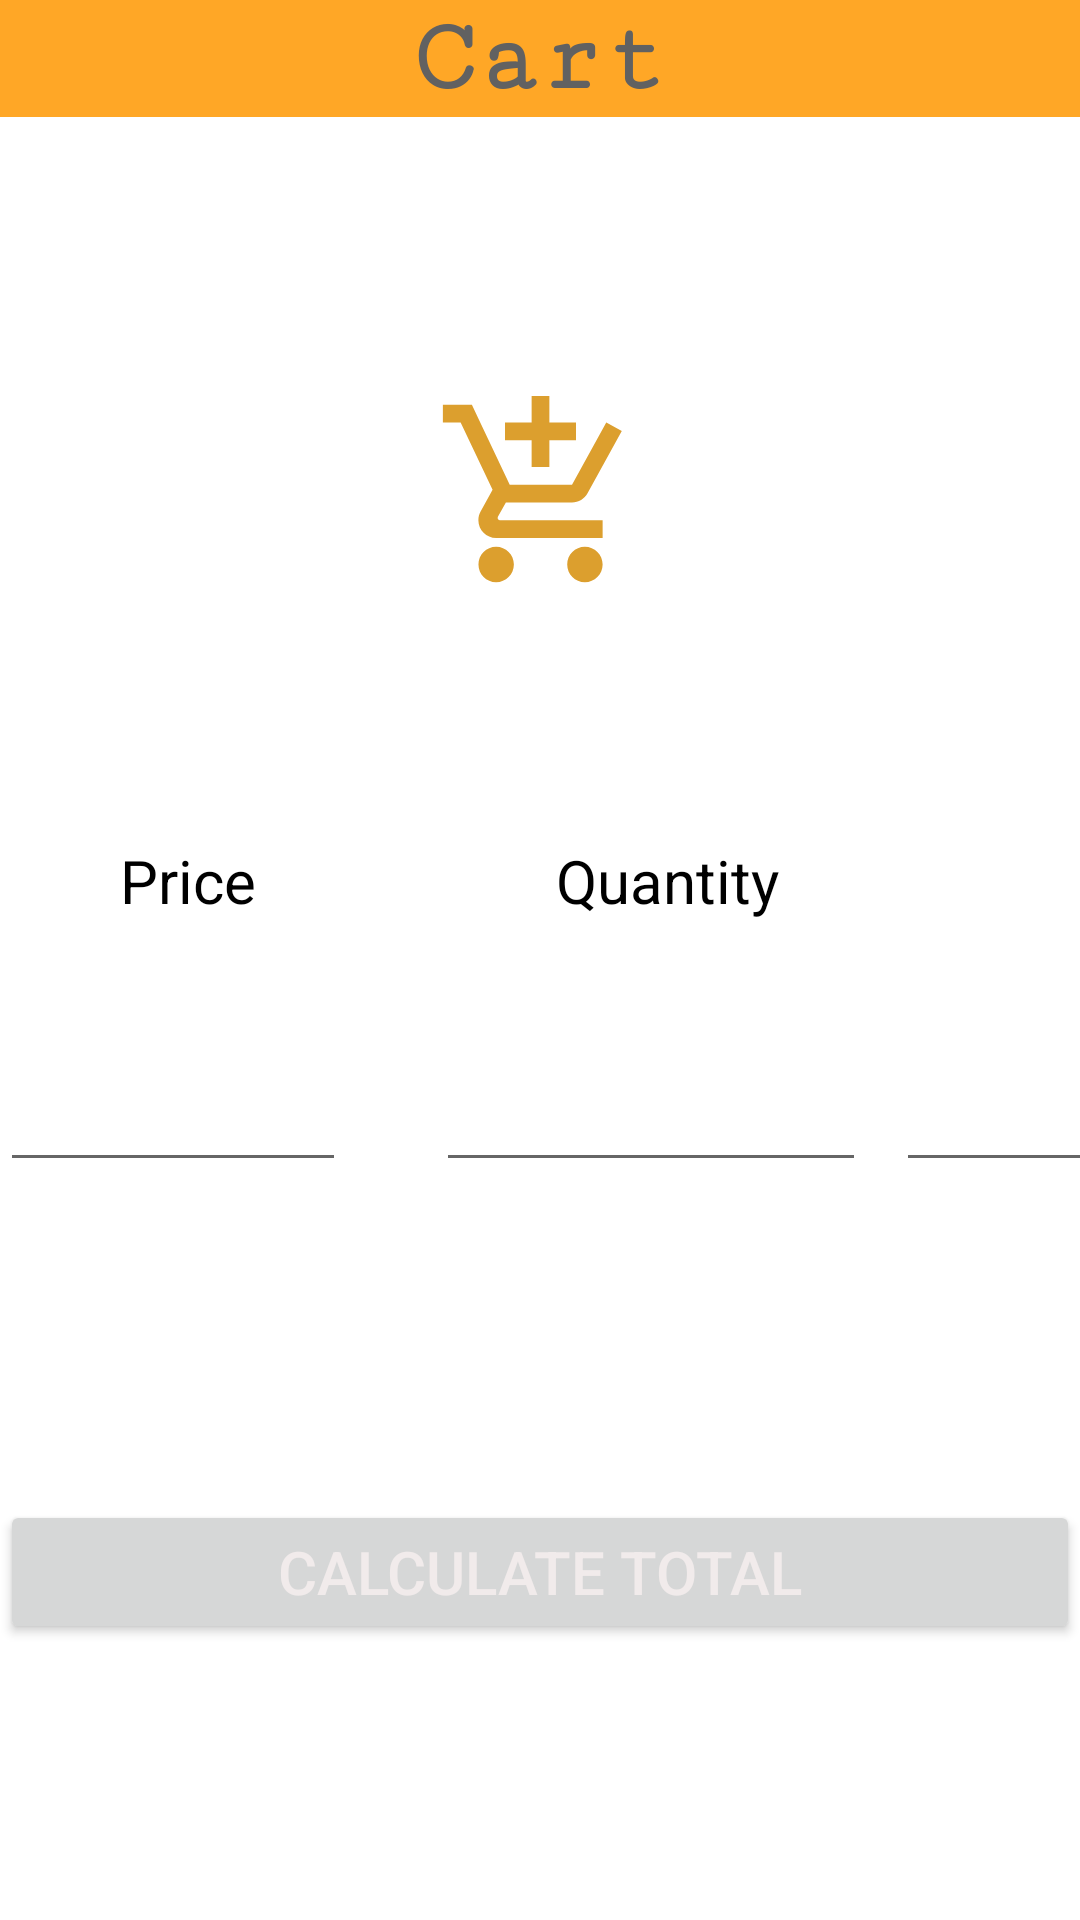

Icon click points for this 1080×1920 phone screenshot, format (x,y):
add shopping cart: (532,489)
